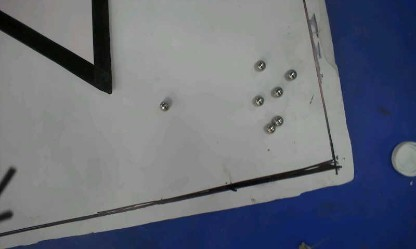ironball: (159, 100, 169, 111), (253, 95, 263, 106), (272, 86, 282, 97), (286, 69, 296, 80), (272, 115, 283, 125), (265, 123, 275, 133), (256, 60, 265, 70)
